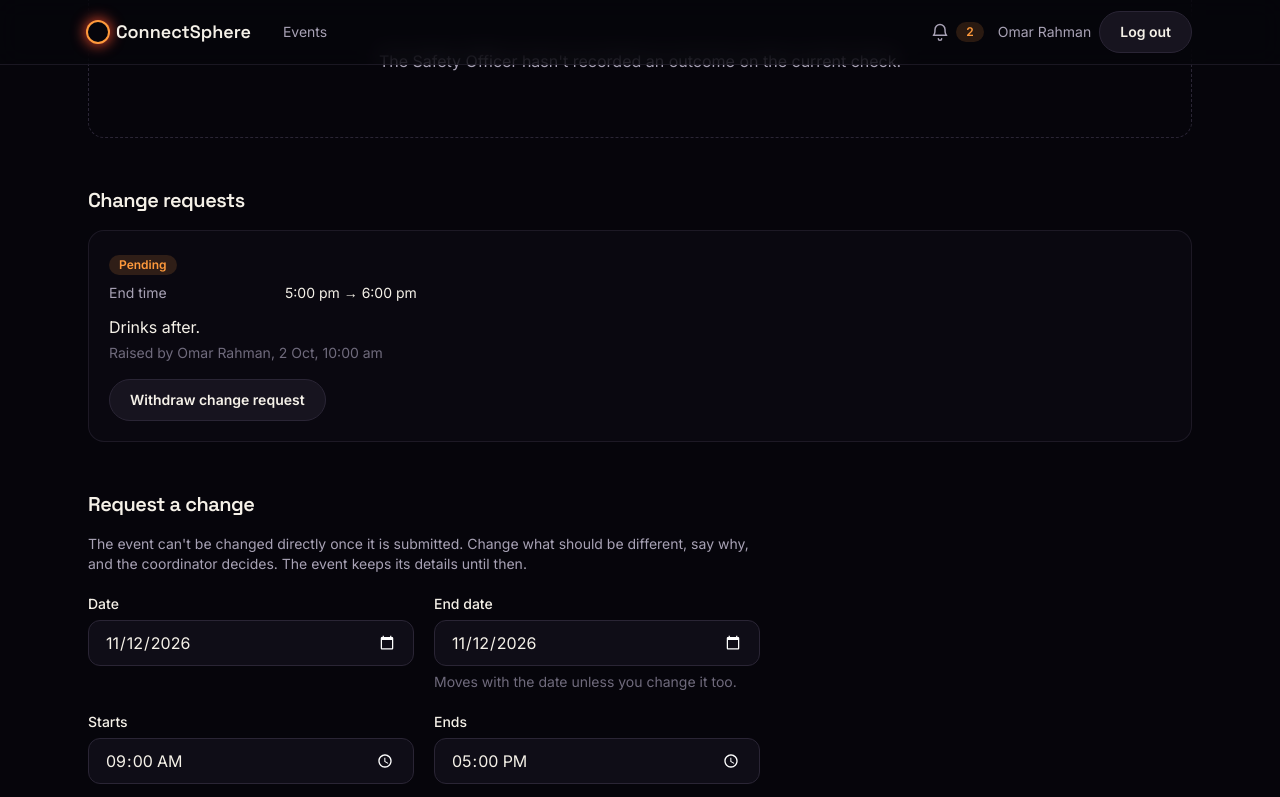
Scenario: SCRUM-56 AC8, AC9 withdrawing a change request › shows the backend's refusal of a withdrawal
(page scrolled)
Click the button "Withdraw change request": {"x": 217, "y": 400} [109,379,326,421]
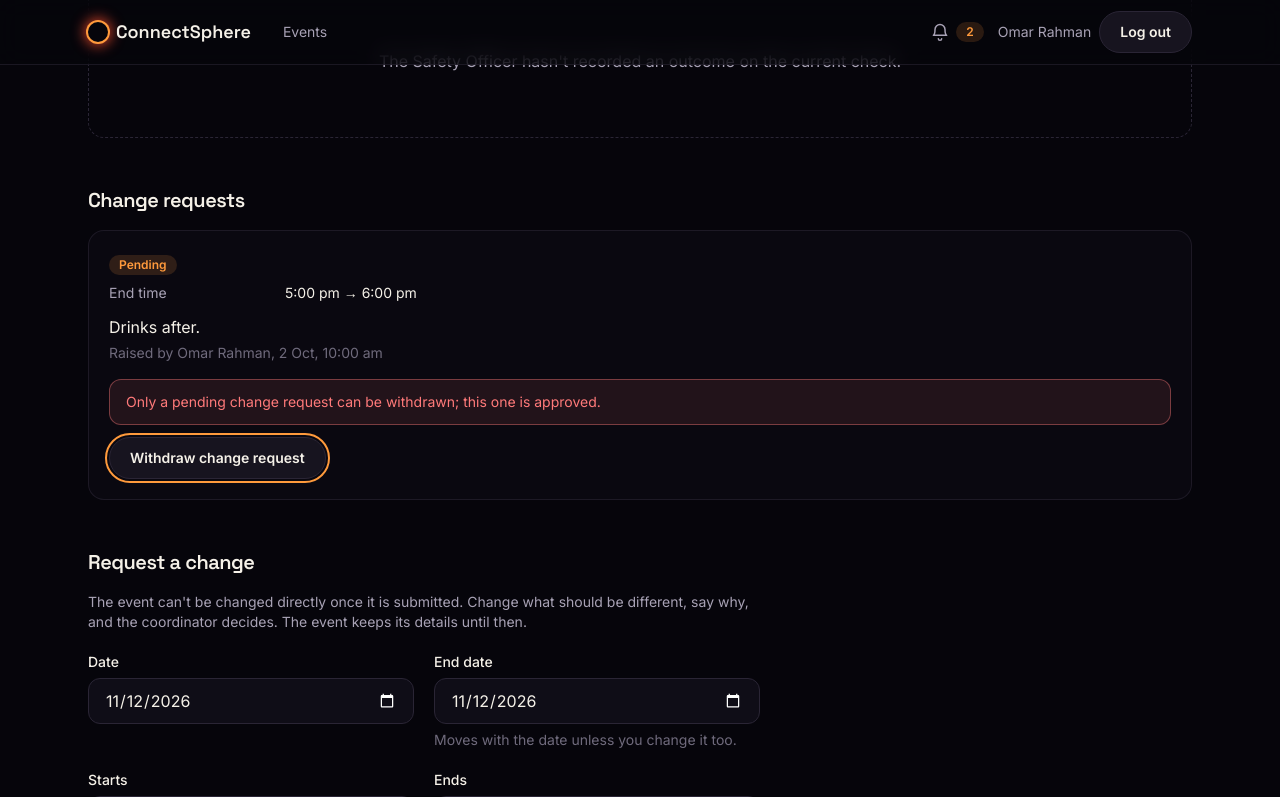
Result: the message reads "Only a pending change request can be withdrawn; this one is approved." at [126,393,601,410]
